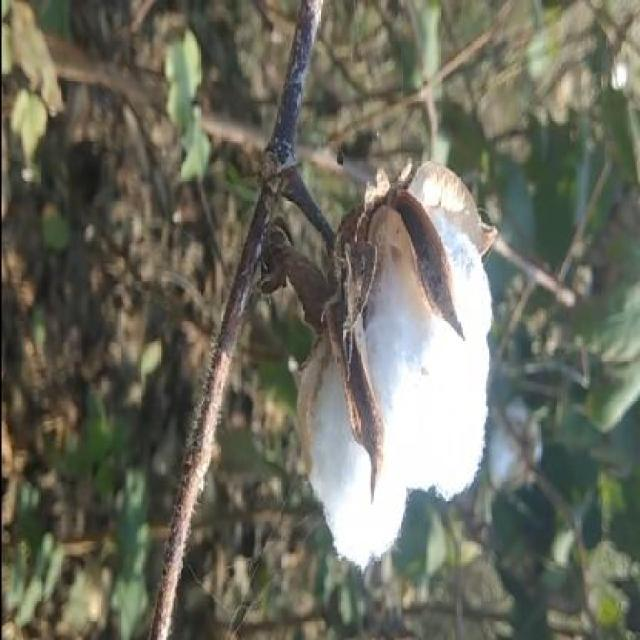cotton_ready: (226, 205, 514, 583)
